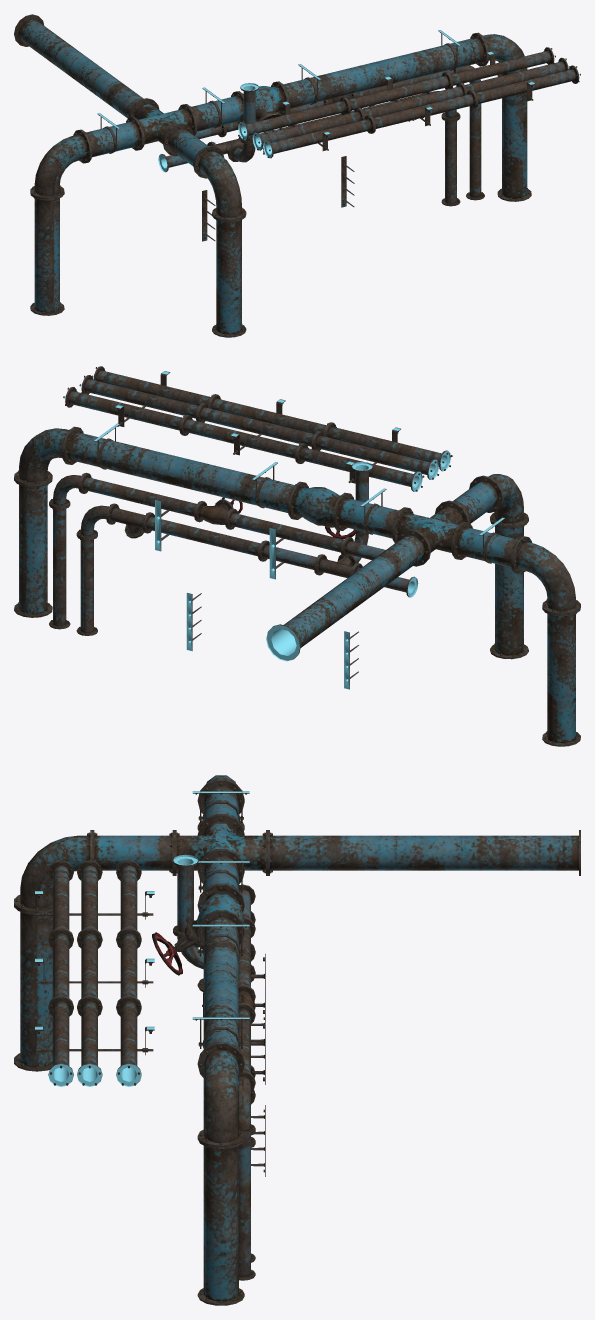
File: old_rusted_hangar_pipes.glb
3 views of the same model, one above another, from view 1: azimuth 30°, elevation 25°; view 2: azimuth 150°, elevation 25°; view 3: azimuth 270°, elevation 25° (orthographic). The views are drawn at different scales.
Parts seen in each view (by area): view 1: Material2, Material3; view 2: Material2, Material3; view 3: Material2, Material3.
Boxes of the visible parts, <box> form: Material2: <box>14,14,580,337</box>; Material3: <box>97,30,579,172</box>; Material2: <box>14,366,580,746</box>; Material3: <box>64,367,504,689</box>; Material2: <box>14,775,580,1305</box>; Material3: <box>35,791,249,1086</box>.
Bounding box in the file's own units: 391 × 139 × 284.
3 materials, 2 textured.
